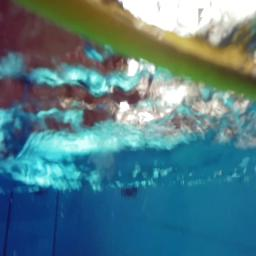Full: (120, 184, 138, 198), (121, 184, 137, 197), (34, 186, 47, 197)
